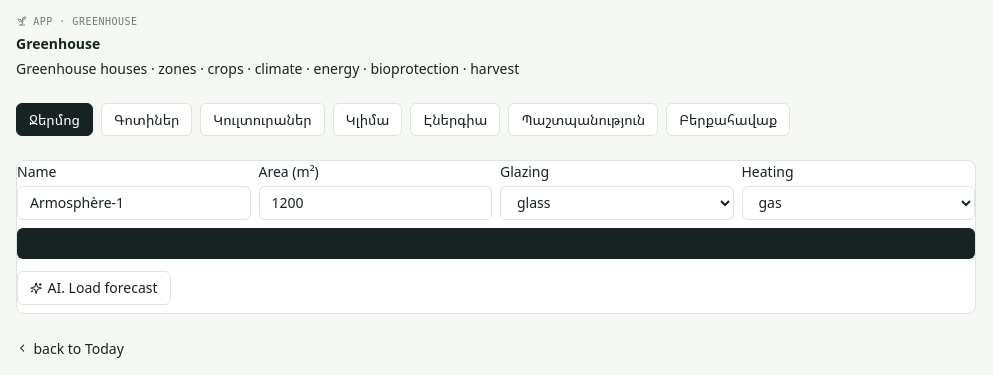
Greenhouse — tab switching › clicking the crop tab reveals the greenhouse-crop-panel panel
Click the tab with test id "greenhouse-tab-crop". click: [263, 119]
box: [200, 102, 325, 136]
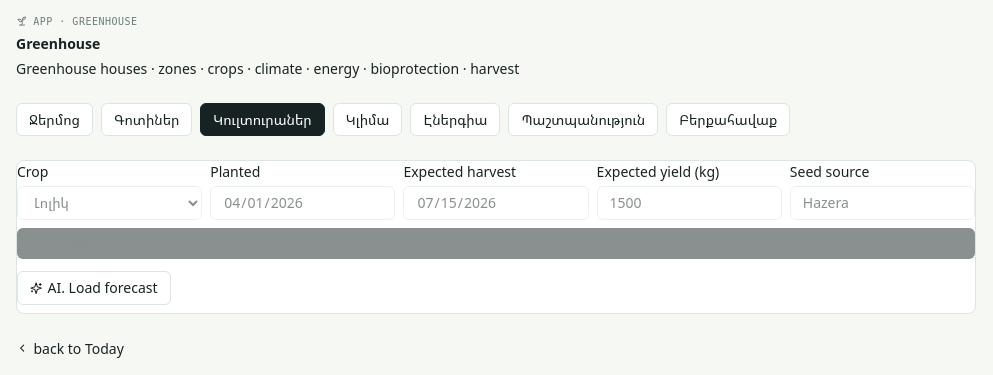
Result: the element with test id "greenhouse-crop-panel" is shown at [16, 160, 976, 314]
